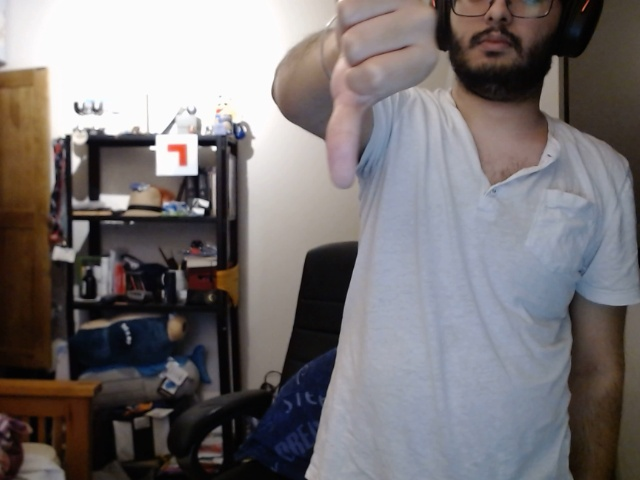Thumbs down: (309, 1, 453, 191)
